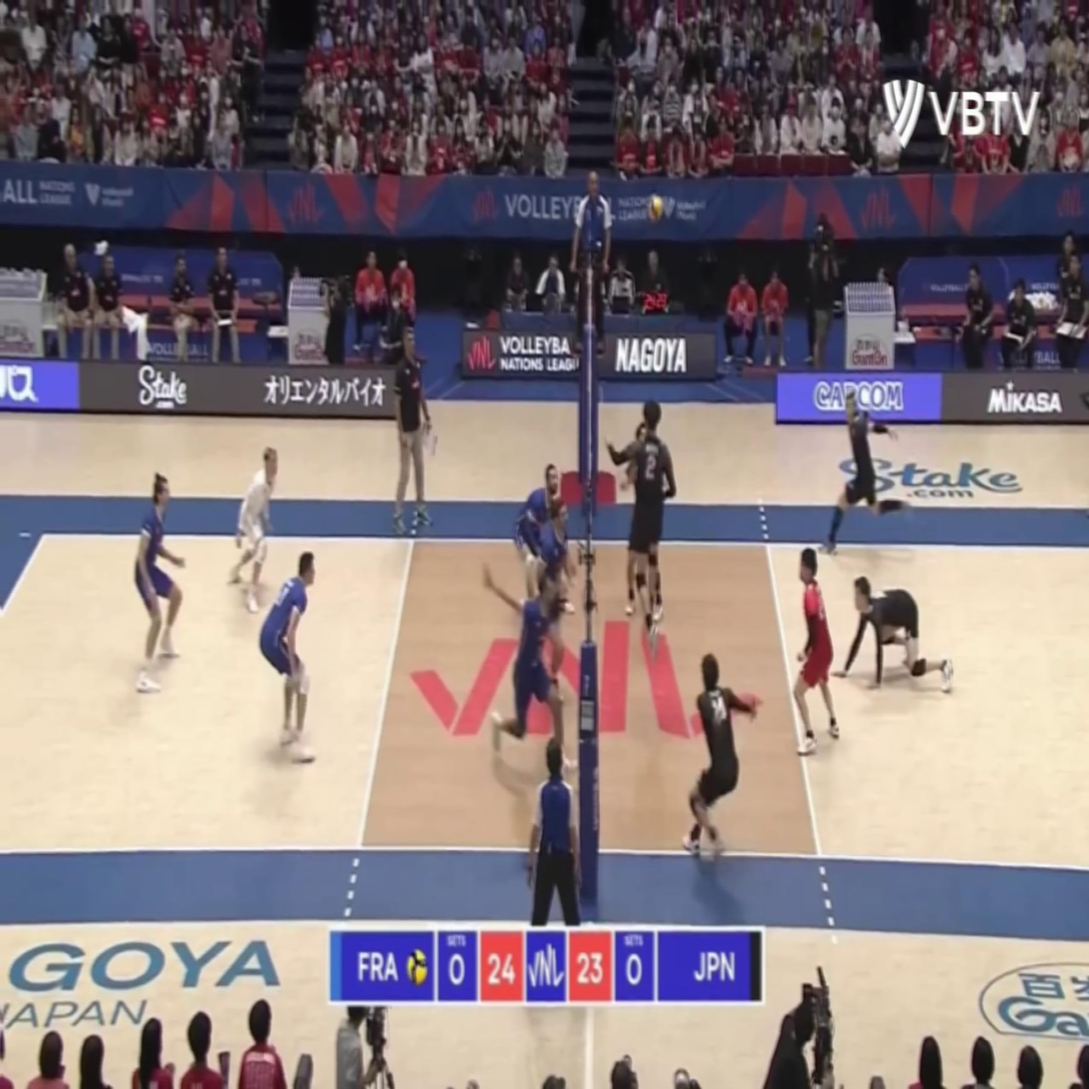ball: (647, 194, 661, 221)
